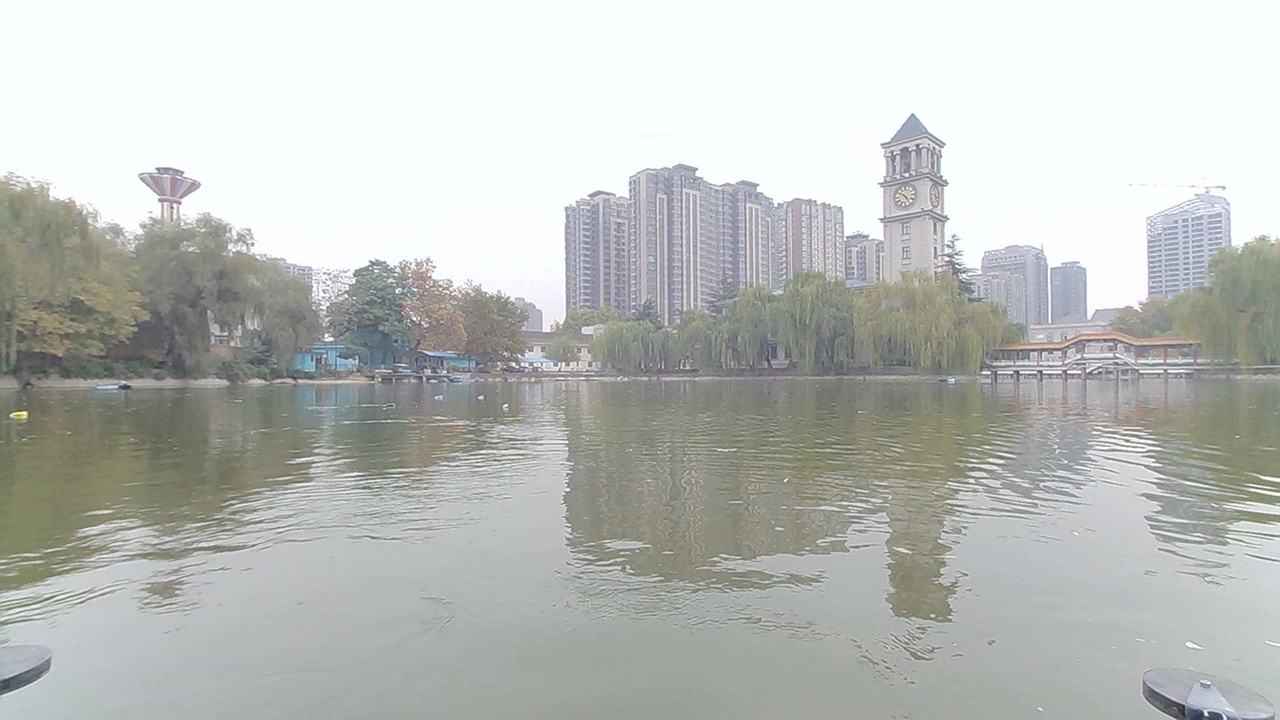bottle: (371, 393, 407, 423), (7, 404, 40, 428), (494, 388, 521, 416), (426, 383, 452, 409), (466, 385, 492, 404)
